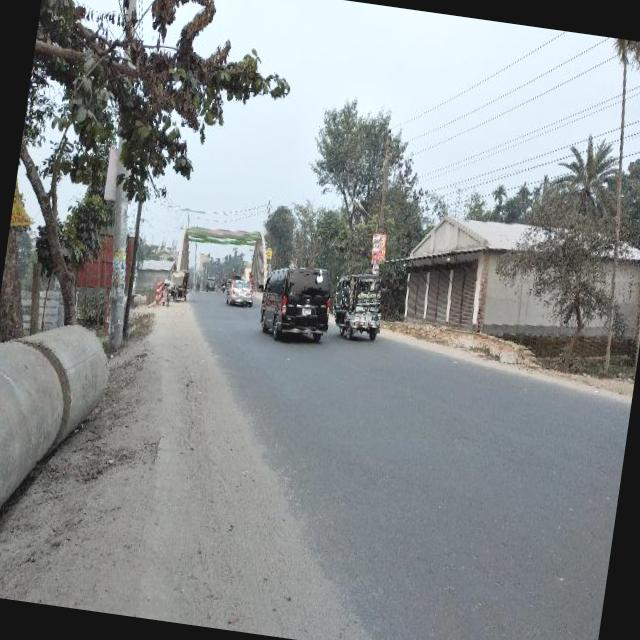car: (226, 278, 257, 309)
motorcycle: (330, 268, 390, 344), (170, 267, 192, 303), (206, 276, 217, 293), (220, 273, 228, 292)
truck: (253, 260, 337, 350)
